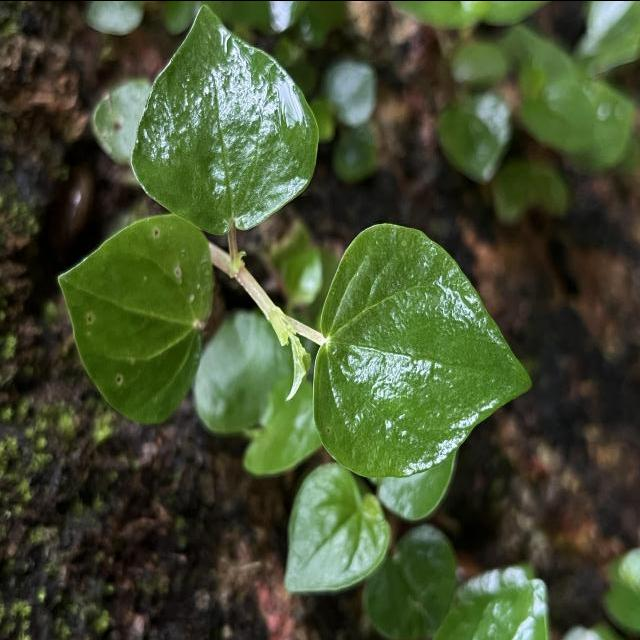Peperomia pellucida: (307, 213, 535, 480), (123, 0, 321, 238)
